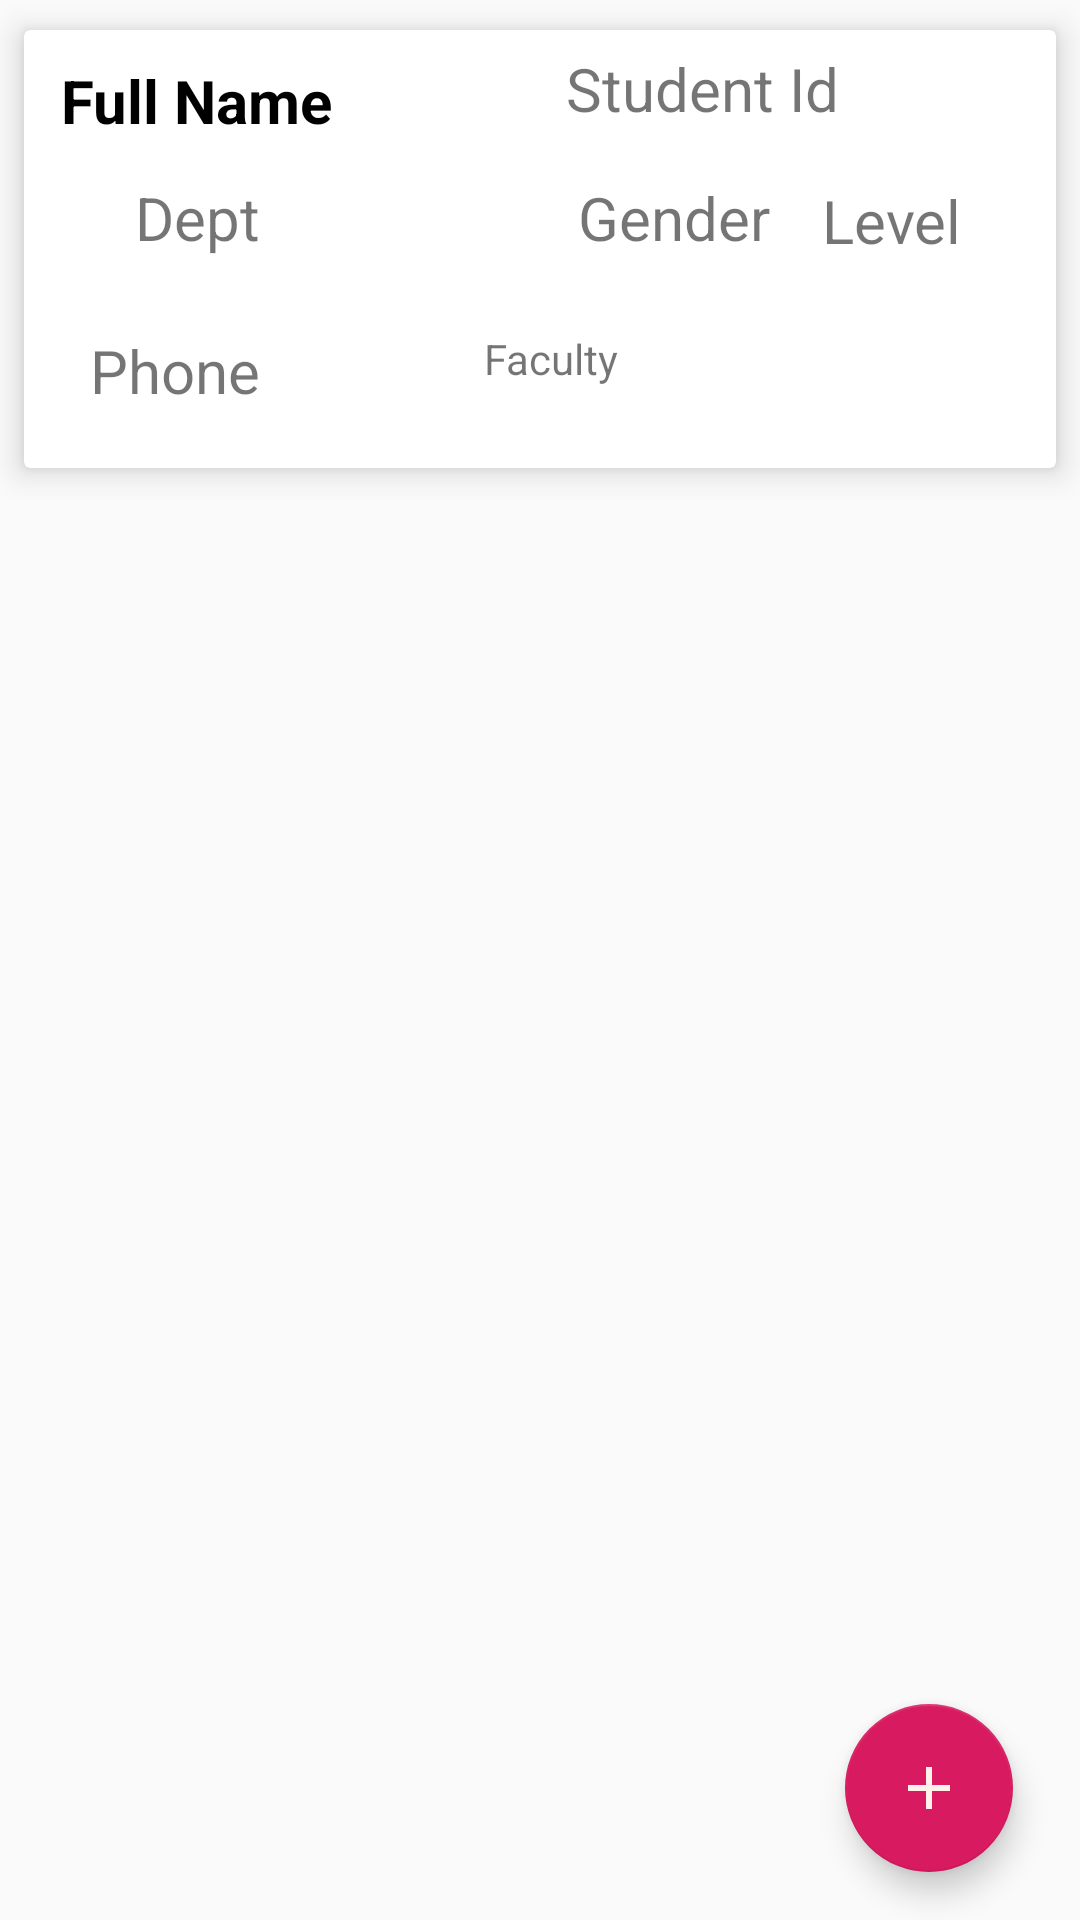

Locate icon controls on the screen. Image size 1080×1920, boxes as (left=x1, top=y1, right=x2, bottom=y2).
add: (left=845, top=1704, right=1013, bottom=1872)
